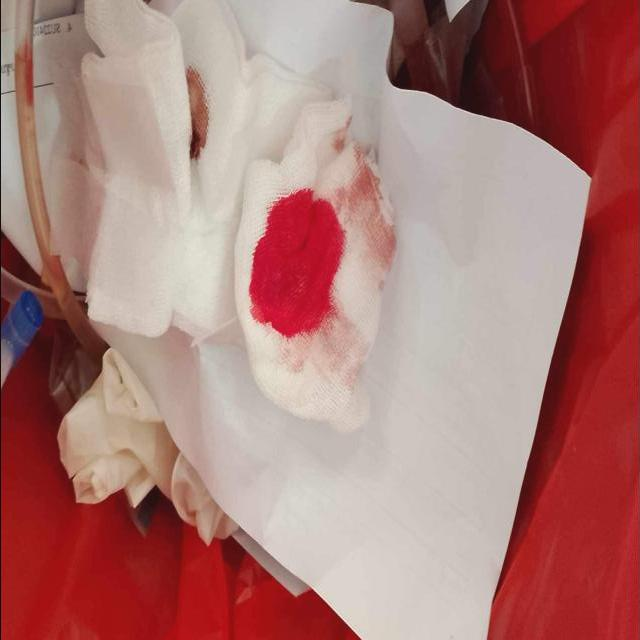Infectious: (232, 98, 398, 435)
Pathological: (10, 3, 594, 639)
Sharps: (7, 2, 109, 360), (1, 290, 46, 390)
